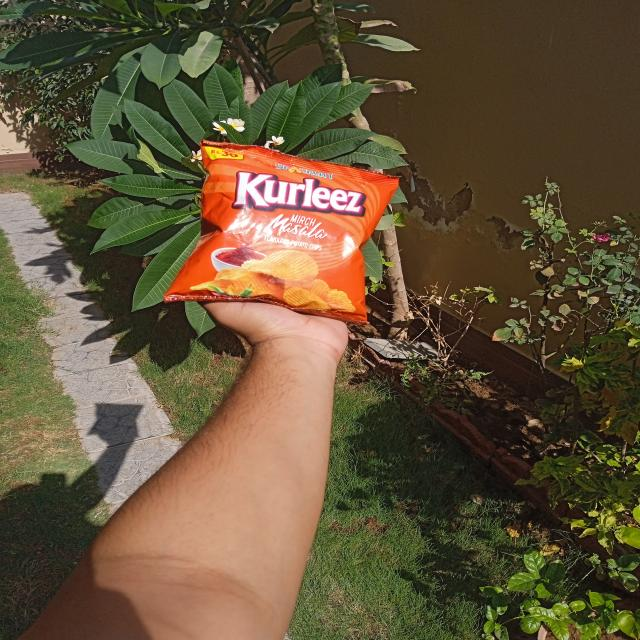Plastic: (164, 138, 398, 322)
